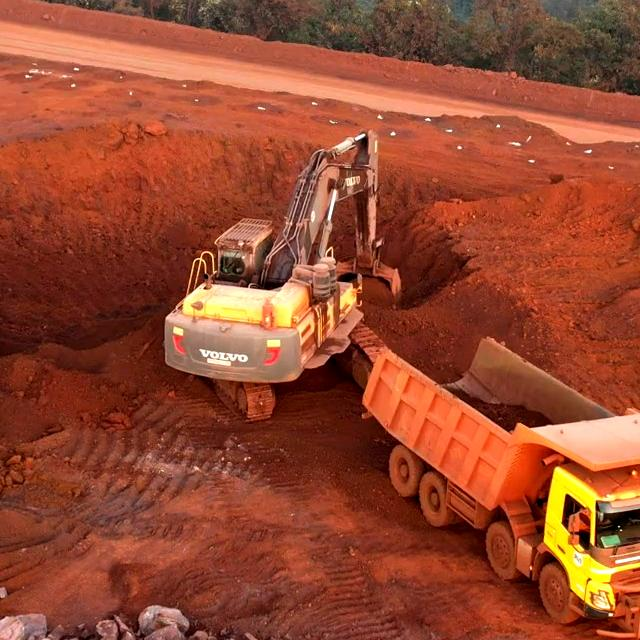Dumper truck: (504, 421, 640, 584)
Excavator: (171, 223, 350, 385)
